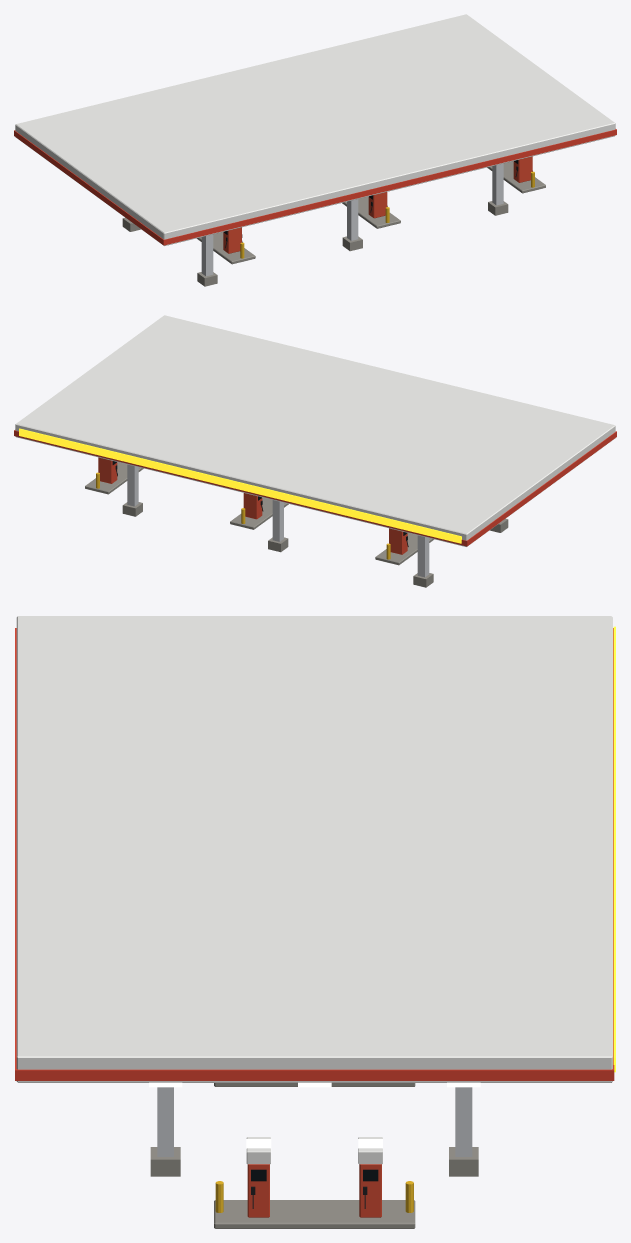
The model's file is gas_station.glb.
3 renders of one model, top to bottom at view 1: azimuth 30°, elevation 25°; view 2: azimuth 150°, elevation 25°; view 3: azimuth 270°, elevation 25°, orthographic. The views are drawn at different scales.
Visible parts, largest first — view 1: gas_station__Body; view 2: gas_station__Body; view 3: gas_station__Body.
Boxes of the visible parts, <box> form: gas_station__Body: <box>14,14,616,286</box>; gas_station__Body: <box>14,315,616,587</box>; gas_station__Body: <box>15,616,615,1228</box>.
Bounding box in the file's own units: 28.19 × 5.7 × 16.12.
